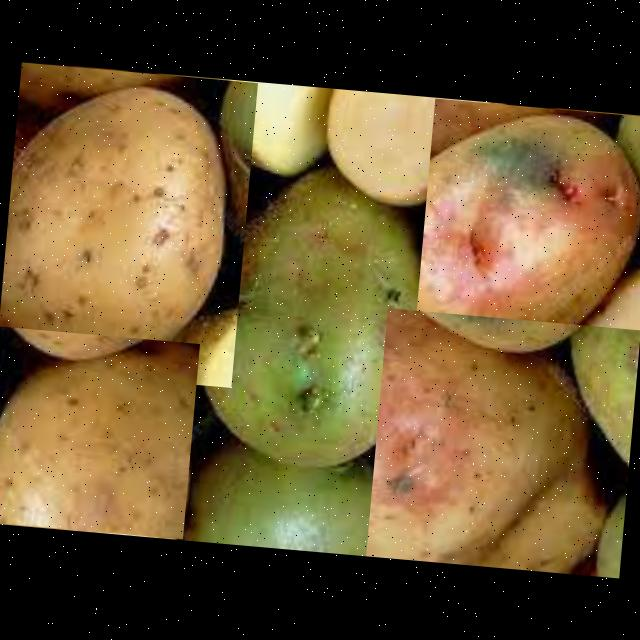Defected potato: (190, 166, 470, 492), (0, 62, 257, 387), (365, 308, 640, 579), (413, 98, 640, 369), (188, 442, 404, 560)
Potato: (0, 326, 199, 539)
